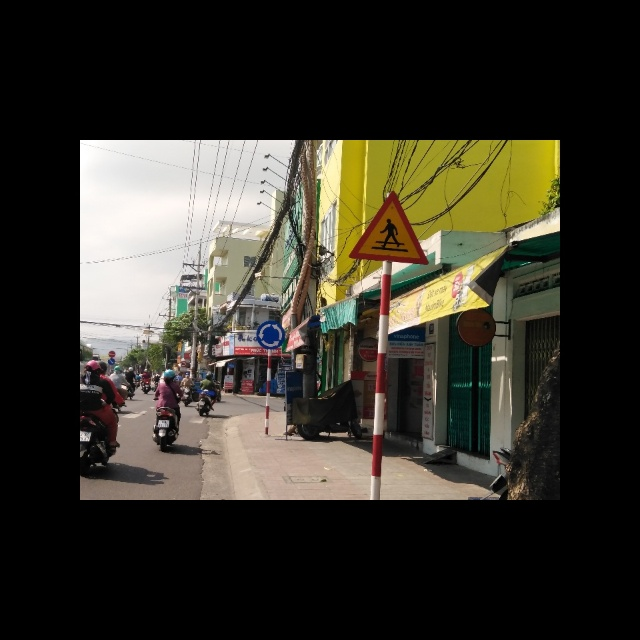Nơi giao nhau chạy theo vòng xuyến: (256, 320, 285, 349)
Đường người đi bộ sang đường: (346, 188, 429, 265)
